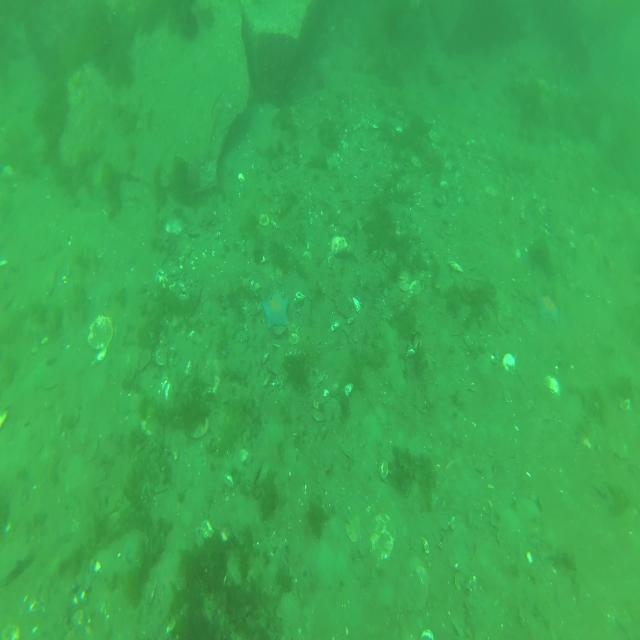starfish: (260, 290, 292, 331), (536, 288, 562, 323)
